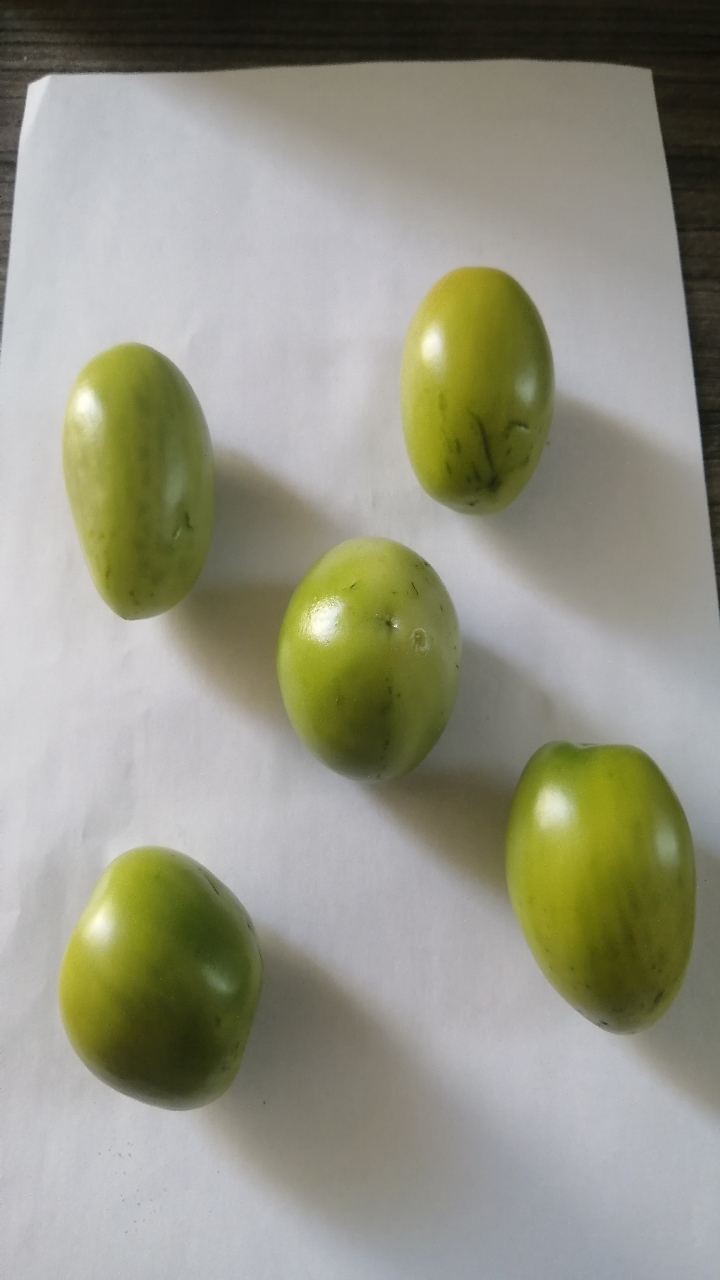tomateVerde: (491, 717, 717, 1066), (32, 820, 289, 1117), (254, 515, 481, 829), (377, 240, 600, 537), (43, 323, 243, 646)
